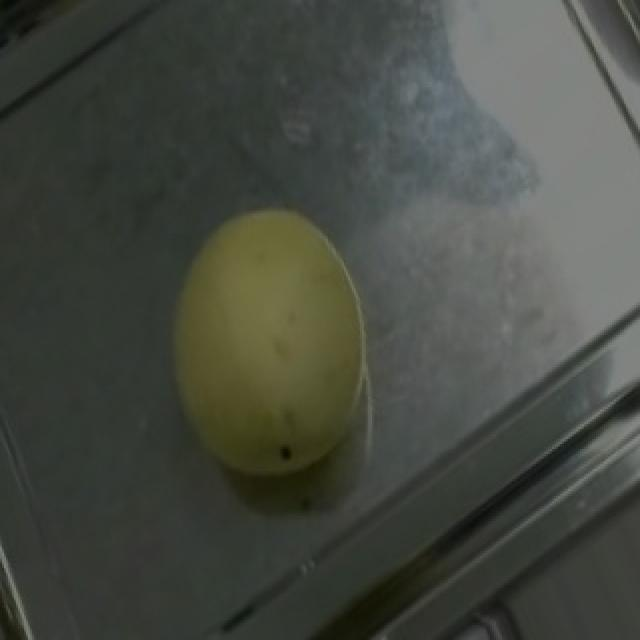Fruit: (120, 169, 420, 526)
